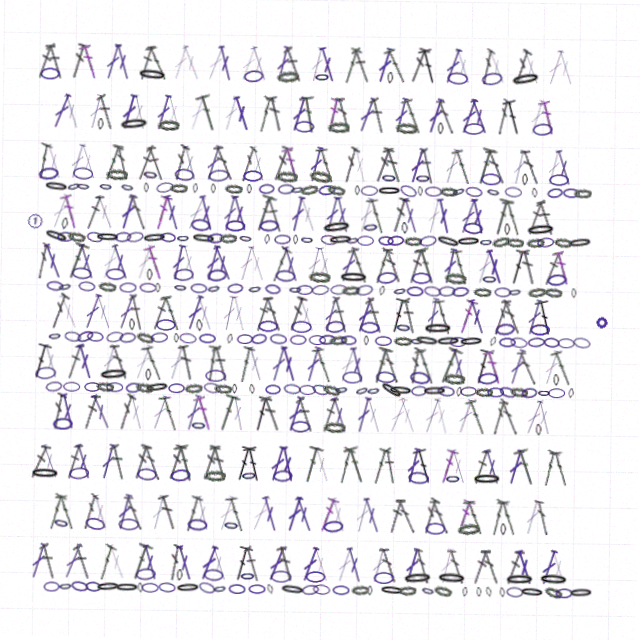chain: (379, 379, 405, 400), (507, 68, 538, 85), (320, 219, 351, 235), (116, 119, 147, 134), (42, 231, 68, 248), (524, 220, 555, 234), (99, 370, 130, 384), (134, 70, 164, 84), (406, 570, 436, 584), (434, 232, 460, 248), (440, 570, 470, 583), (542, 570, 572, 583), (338, 271, 368, 283), (423, 321, 453, 333), (32, 471, 62, 483), (474, 471, 504, 483), (508, 571, 538, 583), (87, 519, 109, 535), (307, 169, 330, 184), (566, 233, 592, 246), (414, 333, 440, 346), (145, 383, 171, 396), (478, 69, 500, 84), (273, 70, 296, 84), (460, 520, 483, 534), (410, 369, 431, 384), (283, 584, 309, 596), (206, 170, 228, 184), (397, 182, 416, 198), (42, 184, 67, 196), (141, 234, 166, 246), (190, 234, 215, 246), (490, 232, 510, 247), (547, 582, 567, 597), (240, 70, 261, 84), (36, 170, 57, 184), (376, 270, 397, 284), (546, 270, 567, 284), (495, 320, 516, 334), (172, 470, 193, 484), (444, 270, 466, 283), (76, 332, 95, 347), (201, 582, 220, 597), (327, 234, 352, 245), (455, 234, 480, 245), (436, 334, 461, 345), (459, 334, 484, 345), (389, 384, 414, 395), (423, 384, 448, 395), (99, 584, 124, 595), (179, 584, 204, 595), (383, 584, 408, 595), (523, 584, 548, 595), (572, 584, 597, 595), (444, 70, 465, 83), (172, 170, 193, 183), (189, 220, 210, 233), (206, 270, 227, 283), (325, 320, 346, 333), (36, 370, 57, 383), (376, 370, 397, 383), (478, 370, 499, 383), (410, 470, 431, 483), (55, 519, 73, 534), (298, 183, 317, 197), (136, 333, 155, 347), (312, 383, 331, 397), (323, 383, 342, 397), (499, 383, 518, 397), (155, 121, 177, 133), (325, 121, 347, 133), (393, 121, 415, 133), (104, 171, 126, 183), (274, 171, 296, 183), (308, 271, 330, 283), (444, 371, 466, 383), (325, 421, 347, 433), (206, 471, 228, 483), (530, 120, 550, 133), (71, 170, 91, 183), (258, 220, 278, 233), (462, 220, 482, 233), (71, 270, 91, 283), (173, 270, 193, 283), (275, 270, 295, 283), (71, 470, 91, 483), (139, 470, 159, 483), (275, 470, 295, 483), (190, 520, 210, 533), (326, 520, 346, 533), (139, 570, 159, 583), (207, 570, 227, 583), (461, 121, 482, 133), (291, 321, 312, 333), (206, 371, 227, 383), (121, 521, 142, 533), (274, 571, 295, 583), (375, 185, 400, 195), (94, 235, 119, 245), (118, 585, 143, 595), (527, 283, 546, 296), (437, 583, 456, 596), (37, 71, 57, 83), (292, 121, 312, 133), (241, 171, 261, 183), (479, 171, 499, 183), (547, 171, 567, 183), (224, 221, 244, 233), (105, 271, 125, 283), (411, 271, 431, 283), (156, 321, 176, 333), (258, 321, 278, 333), (360, 321, 380, 333), (530, 321, 550, 333), (343, 371, 363, 383), (54, 421, 74, 433), (292, 421, 312, 433), (428, 521, 448, 533), (309, 571, 329, 583), (377, 571, 397, 583), (140, 170, 157, 184), (154, 183, 172, 196), (125, 233, 143, 246), (418, 233, 436, 246), (355, 283, 373, 296), (106, 333, 124, 346), (573, 333, 591, 346), (204, 383, 222, 396), (74, 583, 92, 596), (325, 184, 344, 196), (66, 234, 85, 246), (525, 234, 544, 246), (341, 284, 360, 296), (329, 334, 348, 346), (136, 384, 155, 396), (185, 384, 204, 396), (355, 383, 371, 397), (361, 220, 378, 233), (395, 320, 412, 333), (251, 333, 268, 346), (316, 184, 334, 196), (463, 184, 481, 196), (85, 234, 103, 246), (319, 234, 337, 246), (311, 284, 329, 296), (423, 284, 441, 296), (451, 284, 469, 296), (64, 334, 82, 346), (119, 334, 137, 346), (179, 334, 197, 346), (510, 334, 528, 346), (46, 384, 64, 396), (305, 584, 323, 596), (64, 183, 80, 196), (449, 183, 465, 196), (243, 470, 259, 483), (226, 520, 242, 533), (545, 184, 562, 196), (264, 284, 281, 296), (126, 384, 143, 396), (522, 384, 539, 396), (113, 234, 131, 245), (218, 234, 236, 245), (553, 234, 571, 245), (98, 284, 116, 295), (544, 284, 562, 295), (97, 384, 115, 395), (284, 384, 302, 395), (438, 384, 456, 395), (511, 384, 529, 395), (316, 584, 334, 595), (355, 584, 373, 595), (402, 584, 420, 595), (424, 583, 439, 596), (311, 71, 327, 83), (379, 171, 395, 183), (413, 171, 429, 183), (481, 271, 497, 283), (192, 421, 208, 433), (447, 471, 463, 483), (243, 571, 259, 583), (276, 184, 293, 195), (503, 184, 520, 195), (206, 234, 223, 245), (386, 234, 403, 245), (536, 234, 553, 245), (46, 284, 63, 295), (78, 284, 95, 295), (330, 284, 347, 295), (438, 284, 455, 295), (87, 334, 104, 345), (151, 334, 168, 345), (270, 334, 287, 345), (319, 334, 336, 345), (528, 334, 545, 345), (461, 384, 478, 395), (162, 584, 179, 595), (510, 584, 527, 595), (118, 184, 133, 196), (168, 185, 186, 195), (223, 185, 241, 195), (288, 184, 303, 196), (438, 185, 456, 195), (484, 184, 499, 196), (572, 185, 590, 195), (344, 234, 359, 246), (403, 235, 421, 245), (505, 235, 523, 245), (57, 284, 72, 296), (206, 284, 221, 296), (247, 284, 262, 296), (392, 284, 407, 296), (473, 285, 491, 295), (394, 335, 412, 345), (215, 385, 233, 395), (367, 384, 382, 396), (476, 385, 494, 395), (216, 584, 231, 596), (257, 184, 273, 195), (159, 234, 175, 245), (227, 284, 243, 295), (544, 334, 560, 345), (412, 384, 428, 395), (89, 584, 105, 595), (359, 185, 376, 195), (423, 185, 440, 195), (561, 185, 578, 195), (56, 235, 73, 245), (273, 235, 290, 245), (356, 235, 373, 245), (119, 285, 136, 295), (139, 285, 156, 295), (190, 285, 207, 295), (296, 285, 313, 295), (406, 285, 423, 295), (494, 285, 511, 295), (199, 335, 216, 345), (290, 335, 307, 345), (309, 335, 326, 345), (375, 335, 392, 345), (450, 335, 467, 345), (499, 335, 516, 345), (558, 335, 575, 345), (64, 385, 81, 395), (85, 385, 102, 395), (107, 385, 124, 395), (169, 385, 186, 395), (300, 385, 317, 395), (488, 385, 505, 395), (549, 385, 566, 395), (145, 585, 162, 595), (232, 585, 249, 595), (252, 585, 269, 595), (336, 585, 353, 595), (559, 585, 576, 595), (74, 184, 89, 195), (237, 234, 252, 245), (507, 284, 522, 295), (335, 384, 350, 395), (377, 235, 393, 245), (237, 335, 253, 345), (341, 335, 357, 345), (266, 385, 282, 395), (47, 585, 63, 595), (97, 184, 111, 195), (173, 284, 187, 295), (48, 334, 62, 345), (62, 584, 76, 595), (175, 235, 189, 245), (299, 235, 313, 245), (478, 235, 492, 245), (288, 285, 302, 295), (410, 335, 424, 345), (538, 385, 552, 395), (489, 334, 497, 345), (270, 584, 278, 595), (60, 221, 67, 233), (400, 221, 407, 233), (196, 321, 203, 333), (489, 584, 496, 595), (384, 71, 390, 83), (95, 121, 101, 133), (435, 121, 441, 133), (520, 171, 526, 183), (503, 221, 509, 233), (146, 271, 152, 283), (129, 321, 135, 333), (146, 371, 152, 383), (554, 371, 560, 383), (537, 421, 543, 433), (503, 521, 509, 533), (180, 571, 186, 583), (378, 285, 385, 295), (530, 185, 536, 195), (263, 235, 269, 245), (227, 335, 233, 345), (250, 385, 256, 395), (457, 385, 463, 395), (569, 385, 575, 395), (141, 585, 147, 595), (503, 585, 509, 595), (142, 185, 147, 195), (191, 185, 196, 195), (209, 185, 214, 195), (245, 185, 250, 195), (353, 185, 358, 195), (416, 185, 421, 195), (292, 235, 297, 245), (155, 285, 160, 295), (571, 285, 576, 295), (174, 335, 179, 345), (364, 335, 369, 345), (233, 385, 238, 395), (371, 585, 376, 595), (466, 585, 471, 595), (480, 585, 485, 595)
double: (436, 345, 464, 384), (192, 95, 218, 134), (250, 195, 276, 234), (63, 245, 89, 284), (413, 245, 439, 284), (216, 395, 242, 434), (345, 445, 371, 484), (515, 445, 541, 484), (131, 545, 157, 584), (141, 46, 167, 84), (379, 46, 405, 84), (471, 145, 496, 184), (267, 246, 292, 284), (141, 346, 166, 384), (175, 446, 200, 484), (481, 46, 506, 83), (182, 196, 207, 233), (56, 296, 81, 333), (90, 396, 115, 433), (397, 96, 421, 134), (98, 146, 122, 184), (489, 196, 513, 234), (370, 346, 394, 384), (550, 346, 574, 384), (465, 396, 489, 434), (234, 446, 258, 484), (302, 446, 326, 484), (414, 446, 438, 484), (465, 496, 489, 534), (176, 46, 200, 83), (200, 46, 224, 83), (47, 96, 71, 133), (91, 196, 115, 233), (40, 246, 64, 283), (210, 246, 234, 283), (261, 396, 285, 433), (387, 396, 411, 433), (523, 396, 547, 433), (251, 496, 275, 533), (64, 546, 88, 583), (108, 546, 132, 583), (200, 546, 224, 583), (268, 546, 292, 583), (336, 46, 359, 84), (414, 46, 437, 84), (499, 96, 522, 134), (448, 146, 471, 184), (346, 246, 369, 284), (370, 246, 393, 284), (506, 246, 529, 284), (159, 296, 182, 334), (387, 296, 410, 334), (30, 346, 53, 384), (312, 346, 335, 384), (414, 346, 437, 384), (472, 346, 495, 384), (159, 396, 182, 434), (244, 446, 267, 484), (370, 446, 393, 484), (47, 496, 70, 534), (57, 496, 80, 534), (183, 496, 206, 534), (227, 496, 250, 534), (499, 496, 522, 534), (98, 546, 121, 584), (234, 546, 257, 584), (234, 46, 257, 83), (244, 46, 267, 83), (404, 46, 427, 83), (438, 46, 461, 83), (516, 46, 539, 83), (353, 96, 376, 133), (455, 96, 478, 133), (465, 96, 488, 133), (268, 146, 291, 183), (370, 146, 393, 183), (380, 146, 403, 183), (47, 196, 70, 233), (295, 196, 318, 233), (98, 246, 121, 283), (108, 246, 131, 283), (142, 246, 165, 283), (47, 296, 70, 333), (81, 296, 104, 333), (115, 296, 138, 333), (193, 296, 216, 333), (295, 296, 318, 333), (132, 346, 155, 383), (397, 396, 420, 433), (40, 446, 63, 483), (295, 496, 318, 533), (319, 496, 342, 533), (363, 496, 386, 533), (302, 546, 325, 583), (313, 146, 335, 184), (364, 196, 386, 234), (500, 196, 522, 234), (432, 296, 454, 334), (534, 296, 556, 334), (252, 396, 274, 434), (551, 446, 573, 484), (30, 447, 53, 483), (75, 46, 97, 83), (279, 46, 301, 83), (313, 46, 335, 83), (347, 46, 369, 83), (449, 46, 471, 83), (507, 46, 529, 83), (541, 46, 563, 83), (551, 46, 573, 83), (58, 96, 80, 133), (184, 96, 206, 133), (228, 96, 250, 133), (422, 96, 444, 133), (41, 146, 63, 183), (75, 146, 97, 183), (551, 146, 573, 183), (398, 196, 420, 233), (456, 196, 478, 233), (75, 246, 97, 283), (133, 246, 155, 283), (245, 246, 267, 283), (279, 246, 301, 283), (337, 246, 359, 283), (473, 246, 495, 283), (483, 246, 505, 283), (92, 296, 114, 333), (184, 296, 206, 333), (286, 296, 308, 333), (354, 296, 376, 333), (456, 296, 478, 333), (466, 296, 488, 333), (337, 346, 359, 383), (483, 346, 505, 383), (507, 346, 529, 383), (541, 346, 563, 383), (116, 396, 138, 433), (150, 396, 172, 433), (194, 396, 216, 433), (330, 396, 352, 433), (422, 396, 444, 433), (456, 396, 478, 433), (167, 446, 189, 483), (201, 446, 223, 483), (313, 446, 335, 483), (439, 446, 461, 483), (449, 446, 471, 483), (483, 446, 505, 483), (92, 496, 114, 533), (160, 496, 182, 533), (218, 496, 240, 533), (286, 496, 308, 533), (330, 496, 352, 533), (456, 496, 478, 533), (177, 546, 199, 583), (211, 546, 233, 583), (313, 546, 335, 583), (337, 546, 359, 583), (517, 546, 539, 583), (541, 546, 563, 583), (551, 546, 573, 583), (252, 96, 273, 134), (296, 96, 317, 134), (449, 246, 470, 284), (235, 346, 256, 384), (337, 446, 358, 484), (541, 446, 562, 484), (490, 496, 511, 534), (517, 347, 539, 383), (398, 497, 420, 533), (65, 46, 86, 83), (99, 46, 120, 83), (109, 46, 130, 83), (167, 46, 188, 83), (371, 46, 392, 83), (116, 96, 137, 133), (150, 96, 171, 133), (218, 96, 239, 133), (286, 96, 307, 133), (524, 96, 545, 133), (65, 146, 86, 183), (201, 146, 222, 183), (211, 146, 232, 183), (279, 146, 300, 183), (405, 146, 426, 183), (483, 146, 504, 183), (58, 196, 79, 233), (116, 196, 137, 233), (160, 196, 181, 233), (228, 196, 249, 233), (388, 196, 409, 233), (534, 196, 555, 233), (235, 246, 256, 283), (551, 246, 572, 283), (364, 296, 385, 333), (524, 296, 545, 333), (41, 346, 62, 383), (75, 346, 96, 383), (167, 346, 188, 383), (245, 346, 266, 383), (269, 346, 290, 383), (279, 346, 300, 383), (449, 346, 470, 383), (184, 396, 205, 433), (286, 396, 307, 433), (296, 396, 317, 433), (364, 396, 385, 433), (75, 446, 96, 483), (133, 446, 154, 483), (211, 446, 232, 483), (269, 446, 290, 483), (507, 446, 528, 483), (262, 496, 283, 533), (422, 496, 443, 533), (31, 546, 52, 583), (75, 546, 96, 583), (143, 546, 164, 583), (279, 546, 300, 583), (347, 546, 368, 583), (405, 546, 426, 583), (507, 546, 528, 583), (143, 147, 164, 183), (500, 397, 521, 433), (126, 497, 147, 533), (432, 497, 453, 533), (32, 46, 52, 83), (42, 46, 62, 83), (212, 46, 232, 83), (83, 96, 103, 133), (93, 96, 113, 133), (161, 96, 181, 133), (263, 96, 283, 133), (535, 96, 555, 133), (168, 146, 188, 183), (178, 146, 198, 183), (246, 146, 266, 183), (304, 146, 324, 183), (338, 146, 358, 183), (348, 146, 368, 183), (440, 146, 460, 183), (518, 146, 538, 183), (542, 146, 562, 183), (151, 196, 171, 233), (195, 196, 215, 233), (321, 196, 341, 233), (331, 196, 351, 233), (355, 196, 375, 233), (178, 246, 198, 283), (202, 246, 222, 283), (314, 246, 334, 283), (518, 246, 538, 283), (229, 296, 249, 333), (321, 296, 341, 333), (501, 296, 521, 333), (100, 346, 120, 383), (304, 346, 324, 383), (348, 346, 368, 383), (59, 396, 79, 433), (127, 396, 147, 433), (355, 396, 375, 433), (433, 396, 453, 433), (535, 396, 555, 433), (100, 446, 120, 483), (117, 496, 137, 533), (151, 496, 171, 533), (195, 496, 215, 533), (355, 496, 375, 533), (525, 496, 545, 533), (372, 546, 392, 583), (474, 546, 494, 583), (433, 97, 453, 133), (134, 147, 154, 183), (236, 147, 256, 183), (83, 197, 103, 233), (263, 197, 283, 233), (542, 247, 562, 283), (491, 297, 511, 333), (144, 447, 164, 483), (270, 46, 289, 83), (304, 46, 323, 83), (127, 96, 146, 133), (321, 96, 340, 133), (389, 96, 408, 133), (32, 146, 51, 183), (508, 146, 527, 183), (127, 196, 146, 233), (219, 196, 238, 233), (287, 196, 306, 233), (423, 196, 442, 233), (433, 196, 452, 233), (467, 196, 486, 233), (525, 196, 544, 233), (168, 246, 187, 283), (304, 246, 323, 283), (382, 246, 401, 283), (406, 246, 425, 283), (440, 246, 459, 283), (151, 296, 170, 333), (263, 296, 282, 333), (331, 296, 350, 333), (66, 346, 85, 383), (110, 346, 129, 383), (178, 346, 197, 383), (212, 346, 231, 383), (382, 346, 401, 383), (83, 396, 102, 433), (491, 396, 510, 433), (280, 446, 299, 483), (406, 446, 425, 483), (474, 446, 493, 483), (83, 496, 102, 533), (42, 546, 61, 583), (246, 546, 265, 583), (382, 546, 401, 583), (440, 546, 459, 583), (450, 546, 469, 583), (484, 546, 503, 583), (366, 96, 384, 133), (220, 296, 238, 333), (254, 296, 272, 333), (400, 296, 418, 333), (424, 296, 442, 333), (203, 346, 221, 383), (50, 396, 68, 433), (230, 396, 248, 433), (322, 396, 340, 433), (67, 446, 85, 483), (111, 446, 129, 483), (390, 496, 408, 533), (135, 46, 152, 83), (332, 96, 349, 133), (492, 96, 509, 133), (417, 146, 434, 183), (128, 296, 145, 333), (407, 346, 424, 383), (169, 546, 186, 583), (417, 546, 434, 583), (476, 46, 492, 83), (112, 146, 128, 183), (34, 246, 50, 283), (384, 446, 400, 483), (537, 496, 553, 533)
noise: (24, 215, 43, 234), (594, 311, 609, 326)
